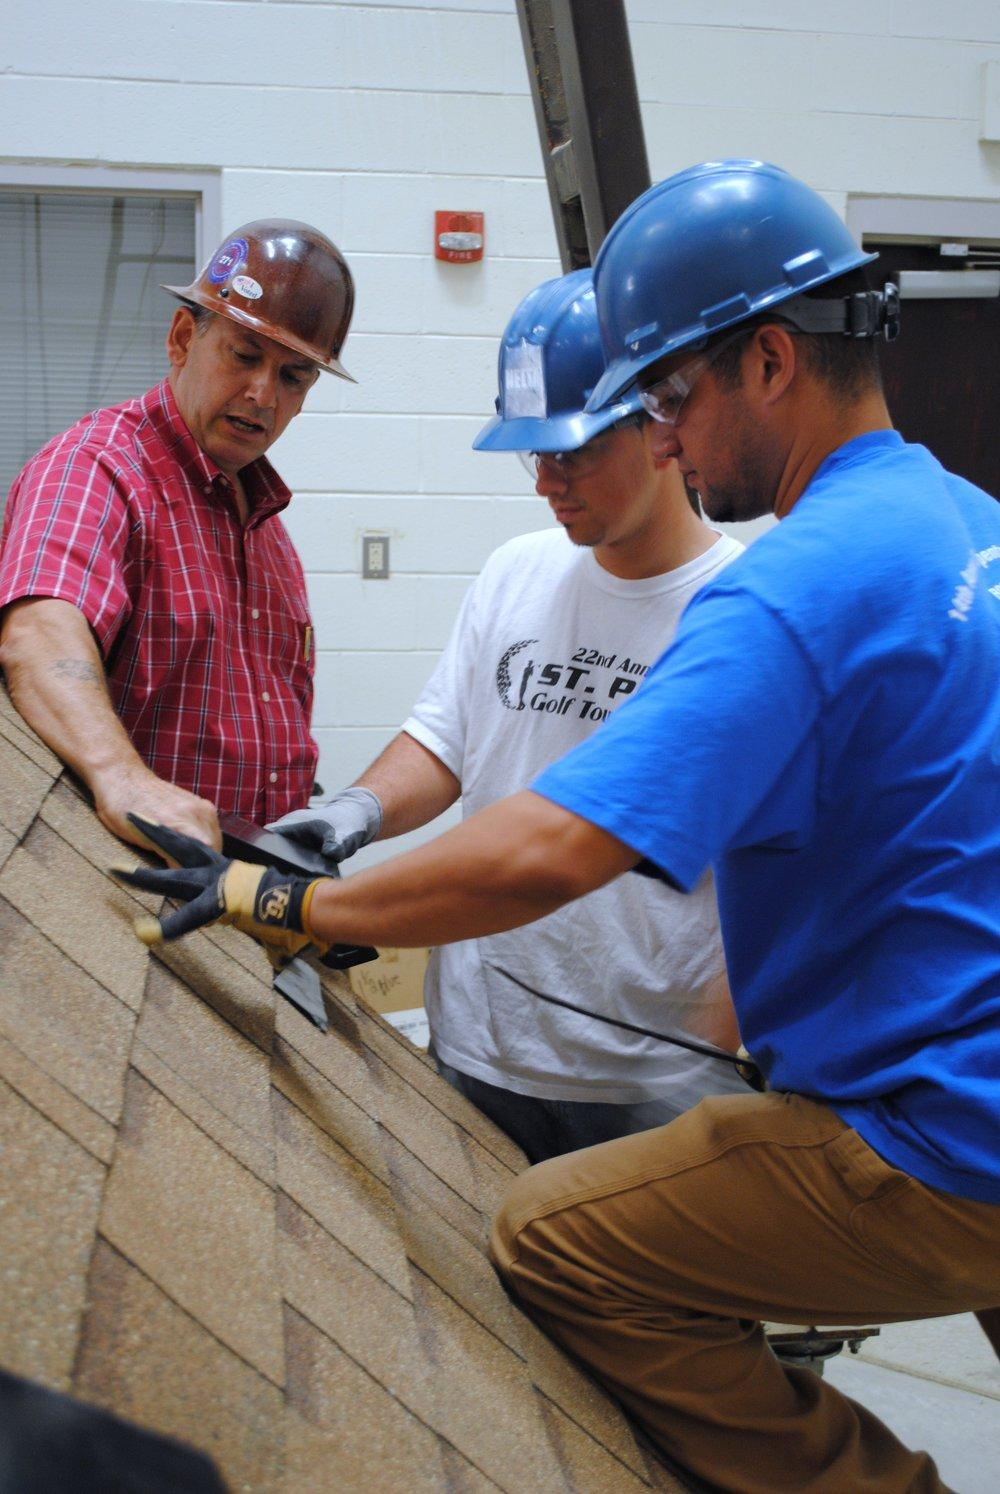helmet: (589, 160, 871, 414), (164, 216, 360, 386), (485, 276, 626, 449)
